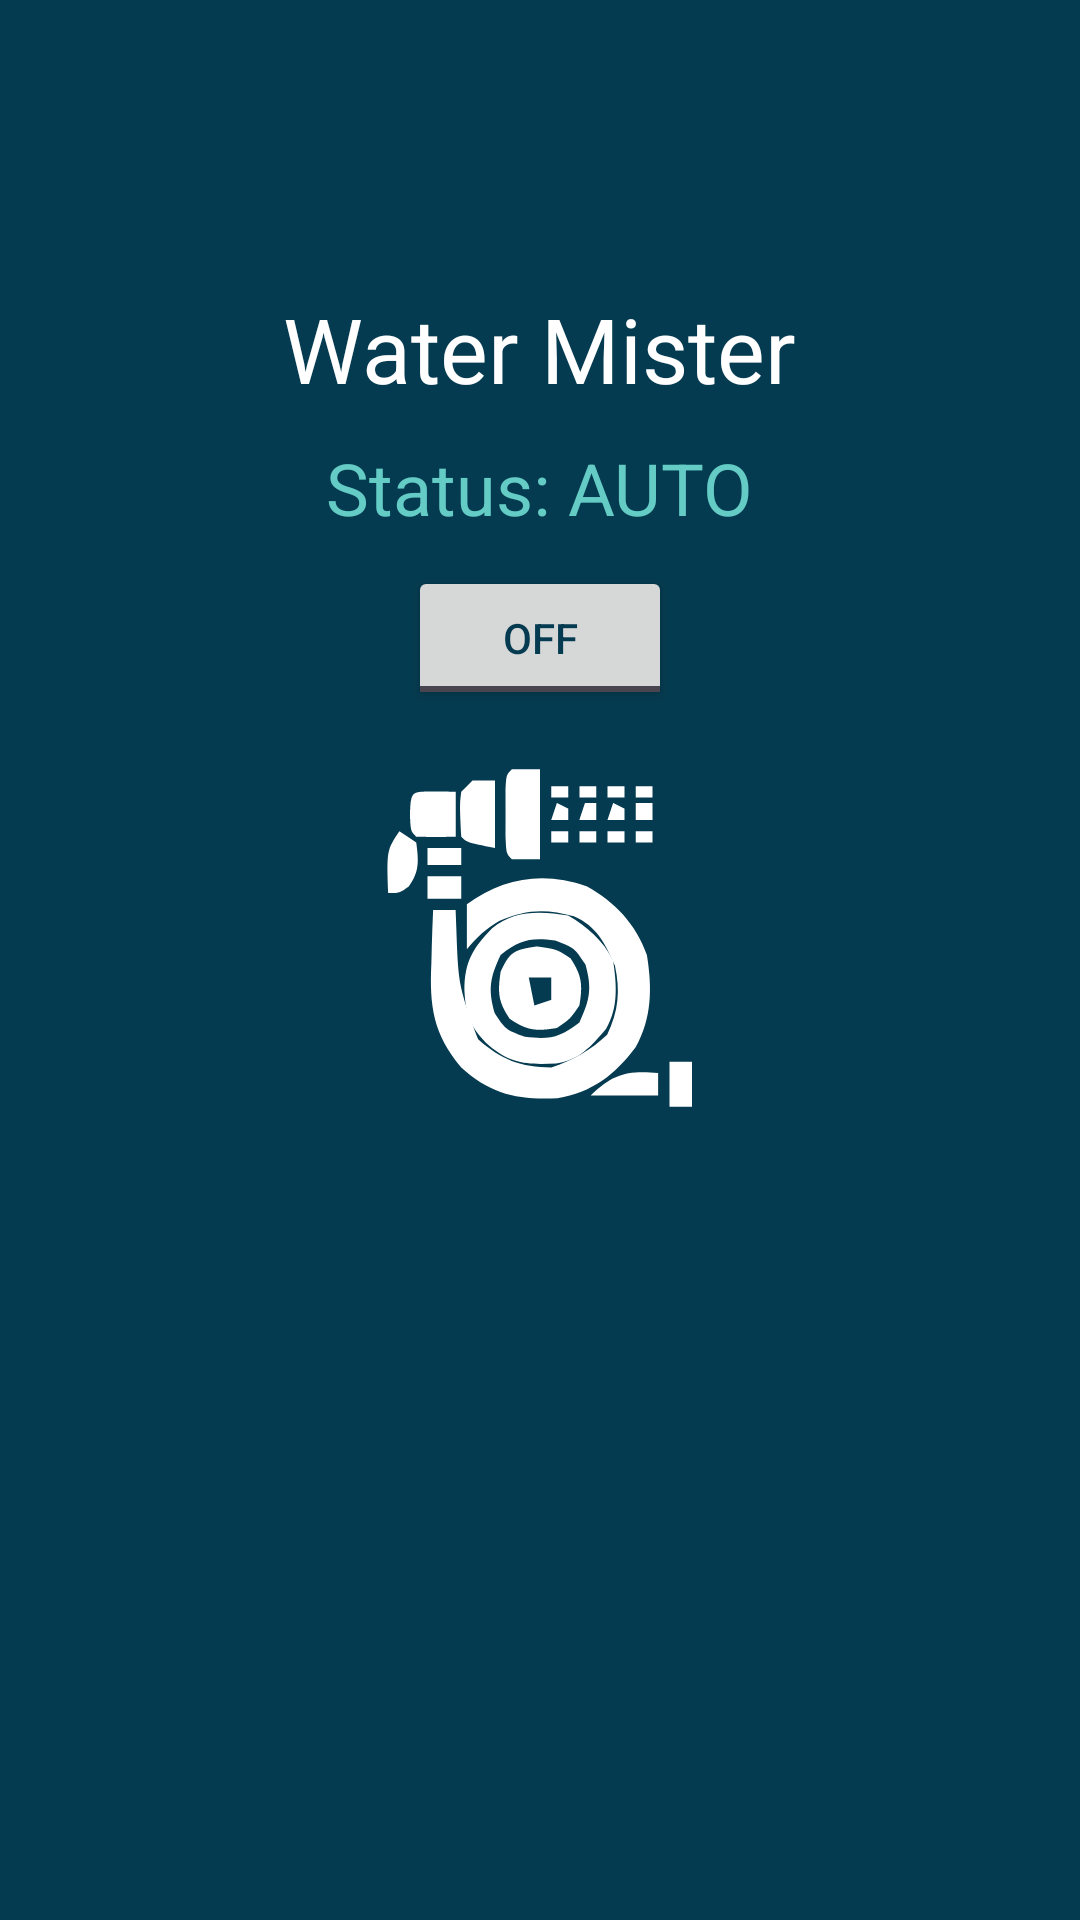

Icons on this 1080*1920 Android screen, each with its box as (x1, y1, x2, y2):
mister hose: (387, 769, 692, 1107)
